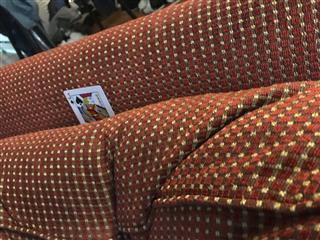JackOfSpades: (62, 84, 115, 124)
